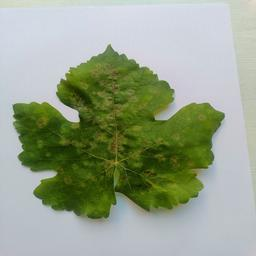Powdery-Mildew: (94, 84, 150, 118), (60, 134, 94, 155), (164, 118, 190, 144), (73, 158, 98, 181), (81, 193, 108, 214), (168, 181, 195, 201), (92, 62, 127, 77), (109, 132, 131, 154), (33, 111, 51, 137)
